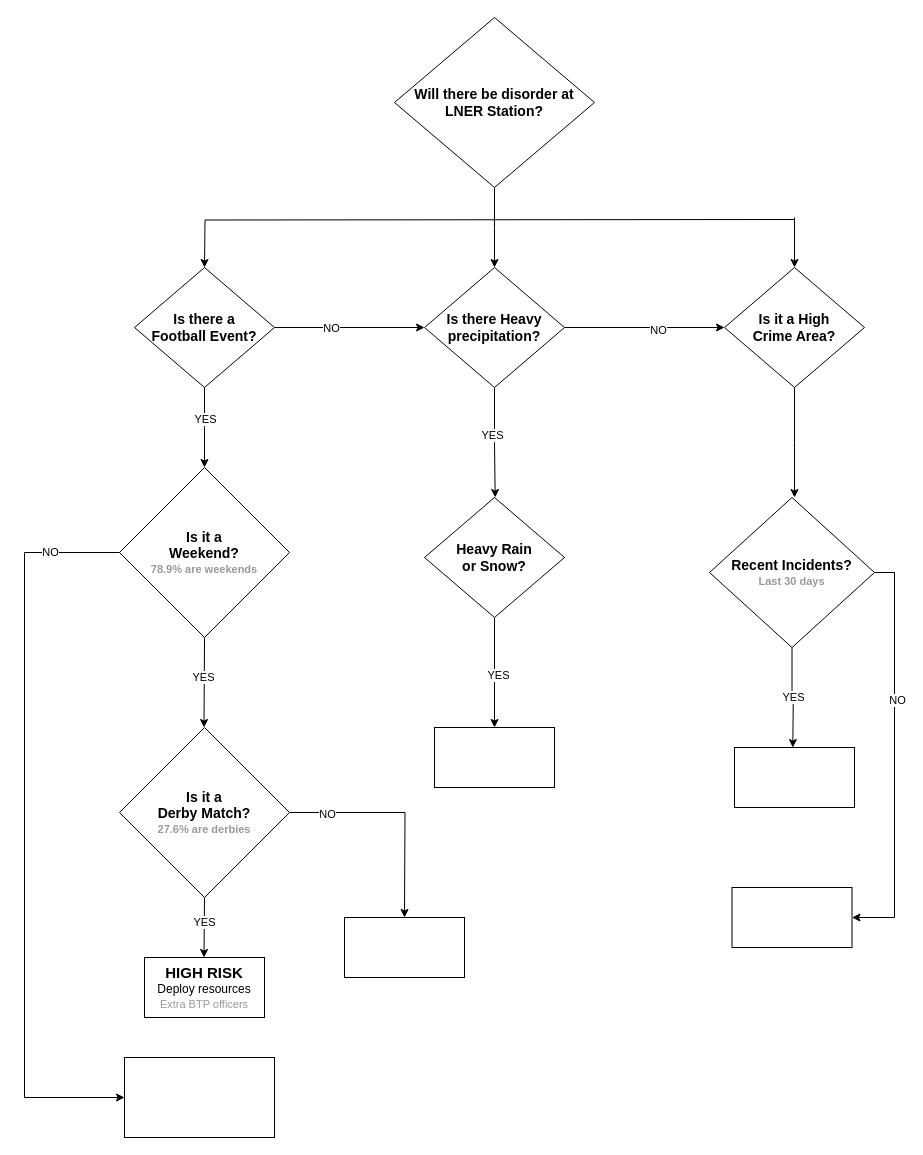
The diagram is 923 pixels wide and 1155 high, and some of its shapes have lost their labels. Here are the shapes that lost their labels. From the top down, the centre of each, then its label:
At pixel 494 757: "MEDIUM RISK Monitor closely Staff on standby".
At pixel 794 777: "HIGH RISK Enhanced security BTP presence".
At pixel 791 917: "LOW RISK Normal operations Routine staffing".
At pixel 404 947: "MEDIUM RISK Weekend match Monitor crowds".
At pixel 199 1097: "MEDIUM RISK Weekday matches Standard protocols".
